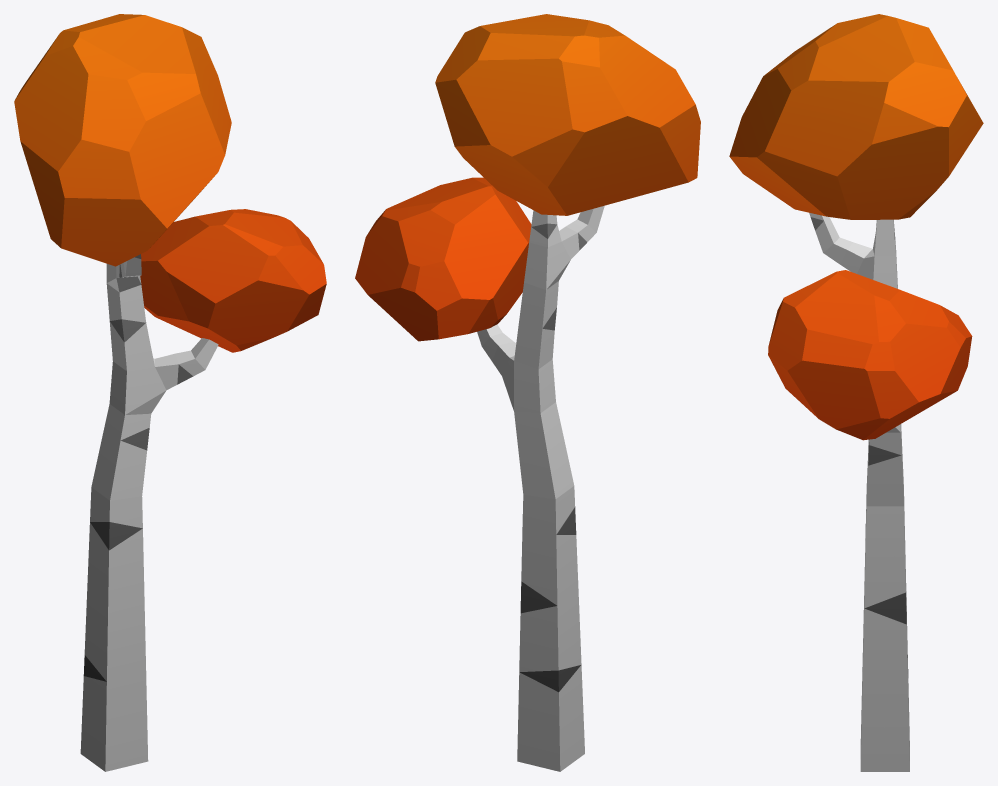
File: autumn birch tree 2.fbx
3 renders of one model, left to right at view 1: azimuth 30°, elevation 25°; view 2: azimuth 150°, elevation 25°; view 3: azimuth 270°, elevation 25°, orthographic.
Visible parts, largest first — view 1: autumn birch tree 2; view 2: autumn birch tree 2; view 3: autumn birch tree 2.
Boxes of the visible parts, left/top/right/bottom form: autumn birch tree 2: left=14, top=14, right=326, bottom=771; autumn birch tree 2: left=355, top=14, right=700, bottom=771; autumn birch tree 2: left=729, top=14, right=983, bottom=771.
Bounding box in the file's own units: 291 × 704 × 222.
